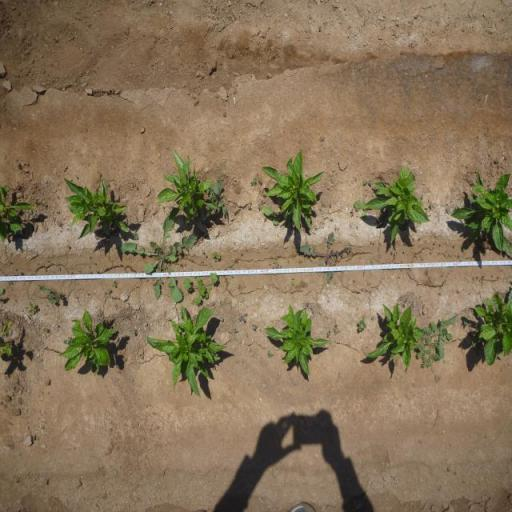plant: (143, 304, 228, 401), (260, 301, 333, 380), (260, 148, 327, 234), (366, 164, 429, 244), (449, 168, 512, 247), (156, 148, 219, 224), (57, 306, 117, 378), (64, 176, 129, 240), (366, 302, 421, 377), (474, 292, 512, 366), (0, 183, 36, 243)
weed: (118, 215, 199, 304), (297, 231, 353, 284), (182, 272, 219, 306), (417, 318, 441, 370), (438, 312, 460, 360), (210, 178, 230, 219), (38, 283, 65, 306), (263, 205, 281, 227), (353, 199, 369, 220), (354, 314, 368, 332), (27, 300, 39, 314), (237, 311, 248, 324), (270, 259, 283, 269), (332, 320, 340, 336), (212, 251, 222, 261), (460, 319, 471, 328), (363, 178, 373, 186), (63, 335, 71, 345), (251, 322, 258, 332), (130, 326, 137, 336), (290, 276, 296, 287), (266, 350, 274, 358), (131, 232, 139, 240), (246, 201, 253, 210), (250, 176, 256, 186), (201, 248, 207, 258), (444, 207, 451, 215), (112, 279, 118, 288), (349, 208, 354, 218), (393, 250, 398, 260), (326, 330, 332, 338), (106, 288, 112, 294), (57, 221, 63, 227), (233, 327, 238, 334), (258, 177, 262, 185), (234, 258, 239, 264), (44, 327, 49, 333), (209, 261, 213, 268), (370, 314, 374, 321), (298, 258, 302, 265), (220, 316, 224, 322), (103, 290, 107, 296), (258, 203, 260, 212), (430, 202, 432, 208), (230, 268, 234, 270)
